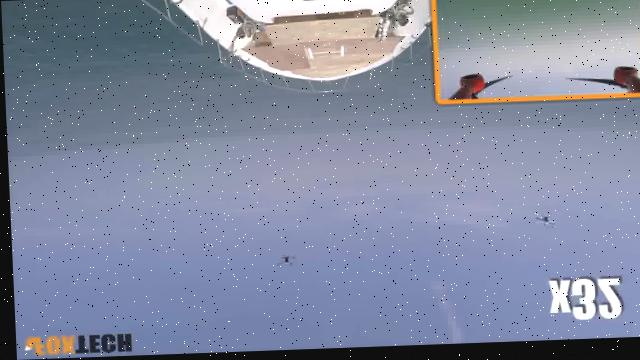drone: (261, 245, 306, 273), (522, 209, 566, 236)
